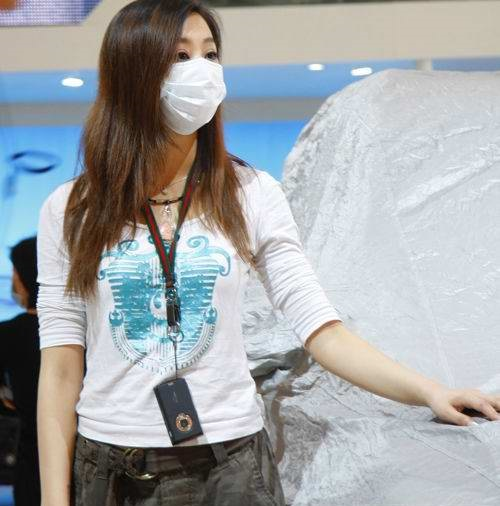face_mask: (144, 7, 223, 128)
